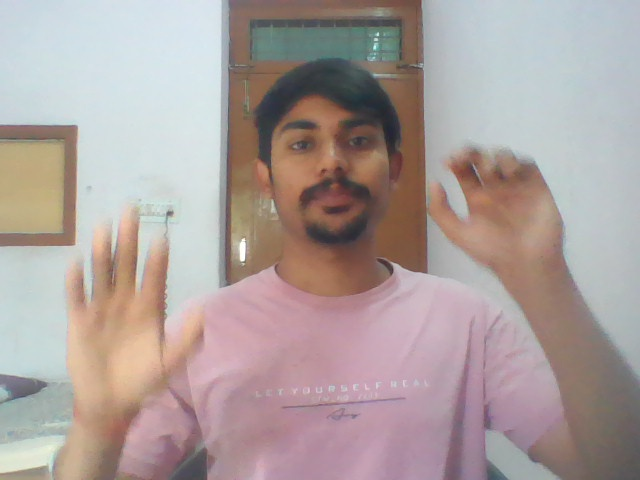Hello: (37, 199, 207, 424)
